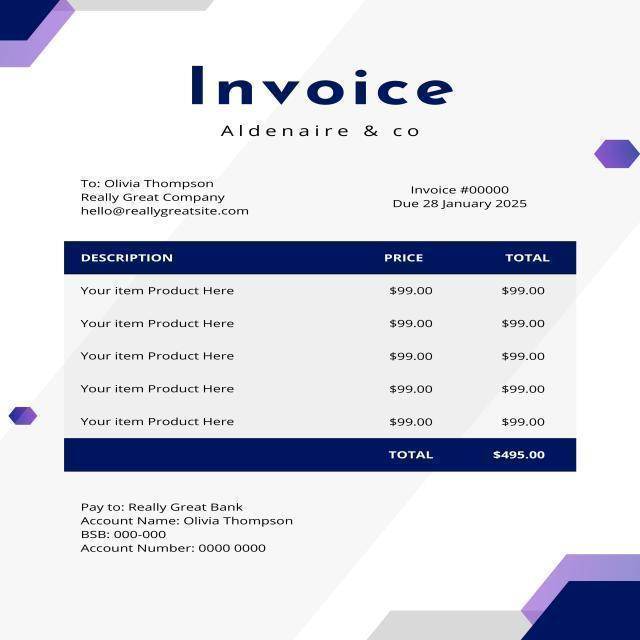paragraph: (179, 49, 461, 145), (72, 495, 299, 560), (76, 174, 254, 223), (389, 183, 531, 215), (384, 442, 550, 468)
table: (66, 244, 567, 434)
